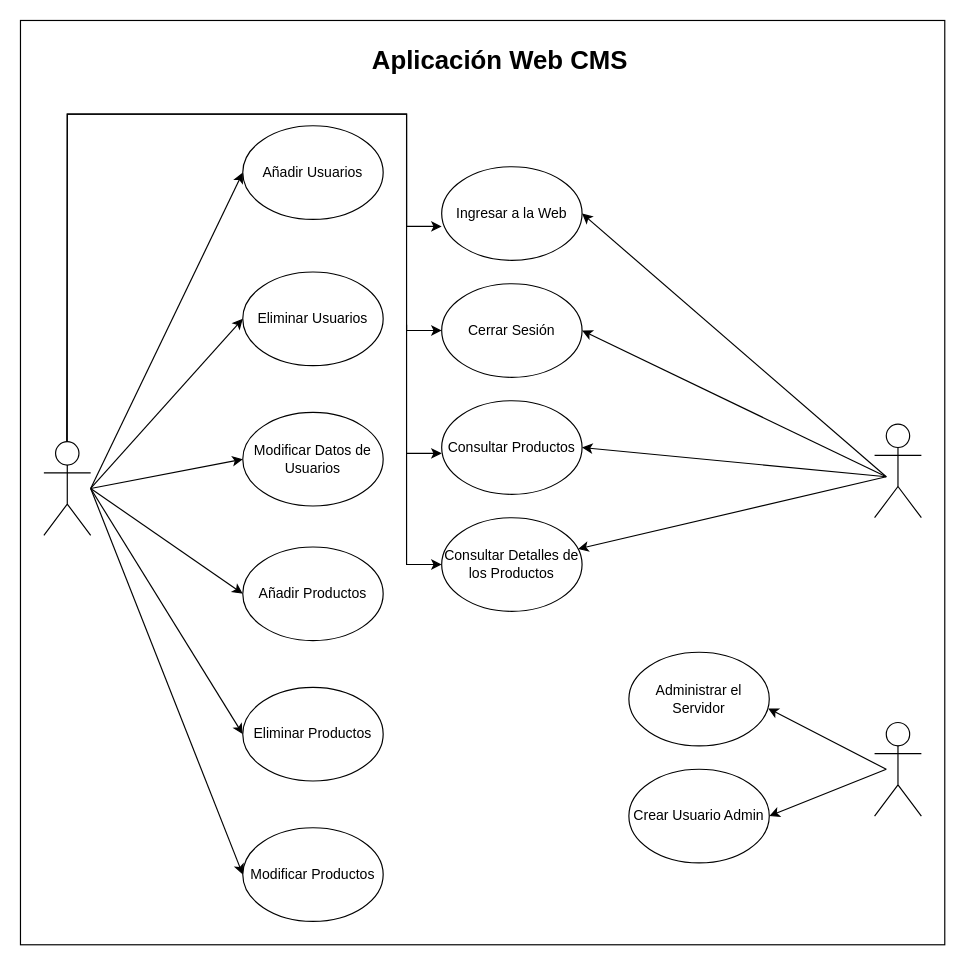
Some shapes in this 965 by 965 pixel diagram are drawn without their labels. The box of each missing label's shape, as (x1, y1, x2, y2) in pixels:
Admin: (43, 441, 91, 535)
Usuario: (873, 423, 921, 518)
Web Master: (873, 721, 921, 816)
